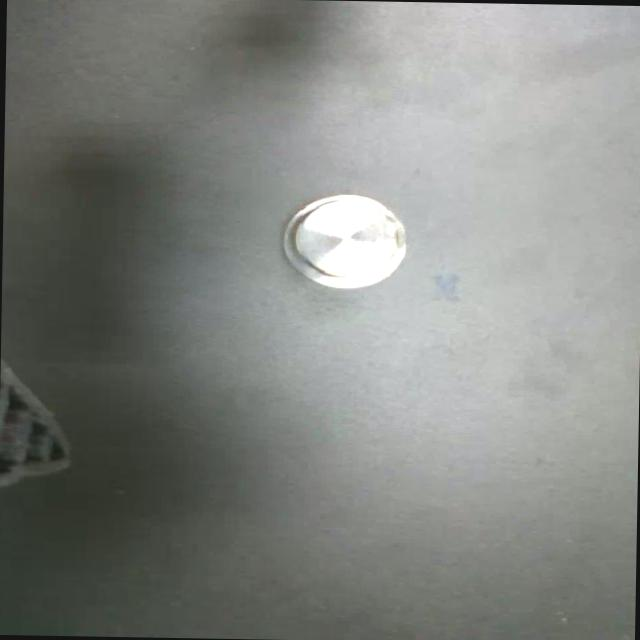sensor: (283, 192, 409, 291)
